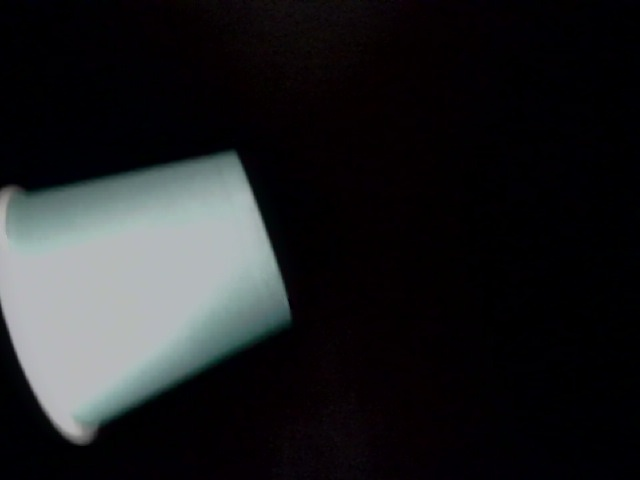KHSLJ: (319, 1, 624, 57)
